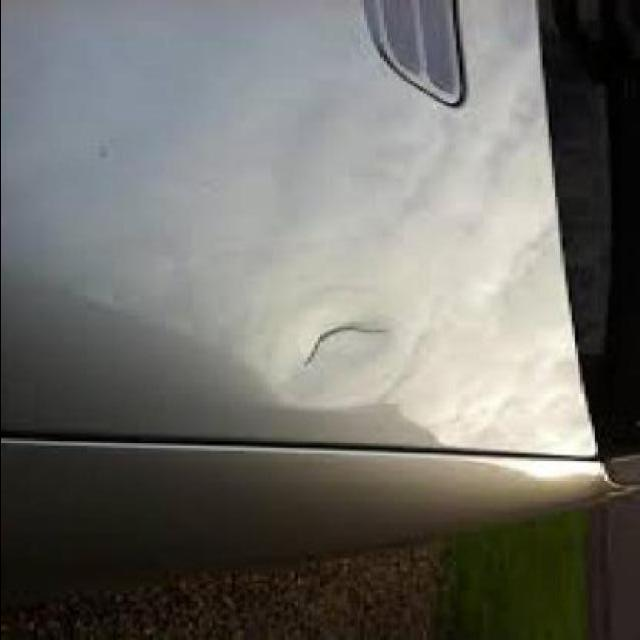paint-trace: (274, 290, 409, 408)
